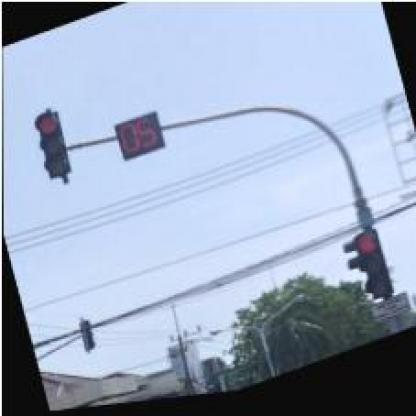red: (30, 107, 74, 182), (350, 235, 390, 312)
